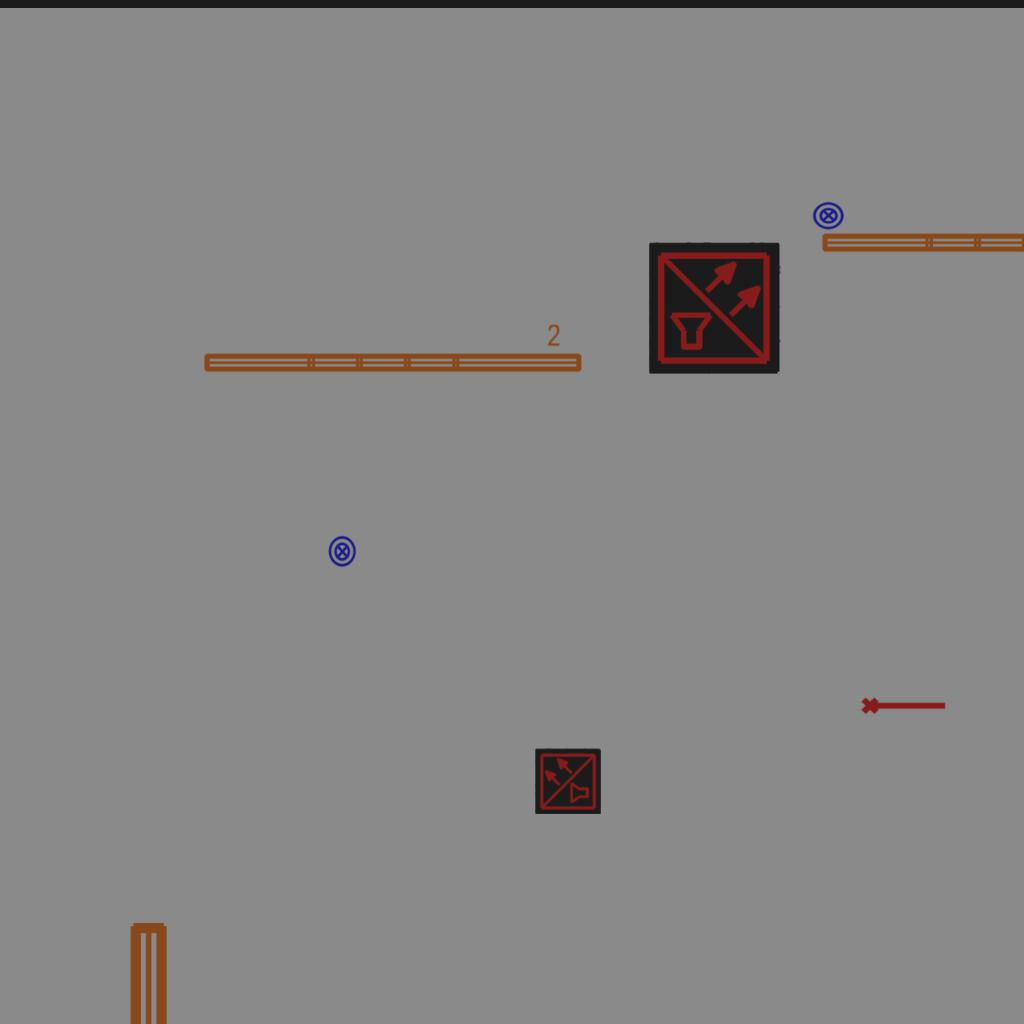ASR_Ansaugoeffnung: (860, 693, 948, 716)
Ambulanz_Pendelleuchte_LED: (199, 322, 586, 378), (118, 912, 230, 1024), (817, 202, 1024, 258)
OKW_Multisensormelder_(Kombination_optischer_Rauch-Kahlenmonoxid_Waerme-Melder): (649, 242, 781, 374), (535, 748, 601, 814)
Taster_beleuchtet: (326, 535, 359, 568), (812, 199, 845, 232)
